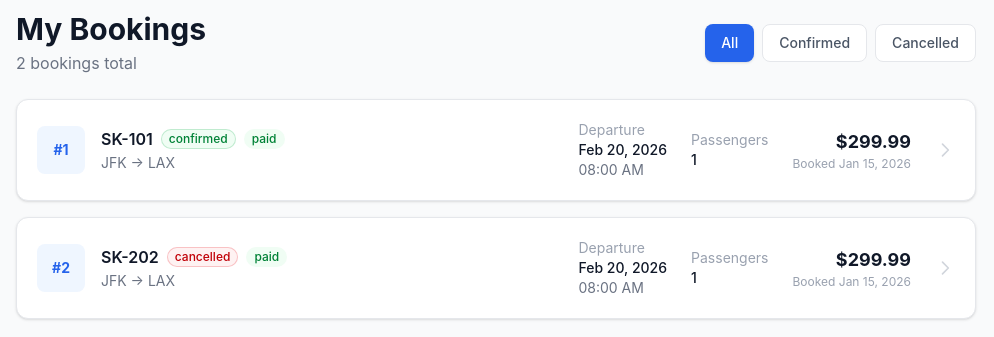
Test: BookingsPage › filters bookings by status when filter buttons are clicked
This screenshot has width=994, height=337.
Expected: the text "SK-101" is shown, [101,127,153,151]
Expected: the text "SK-202" is shown, [101,245,159,269]
Click the button "Confirmed" at (815, 43), box [762,24,867,62]
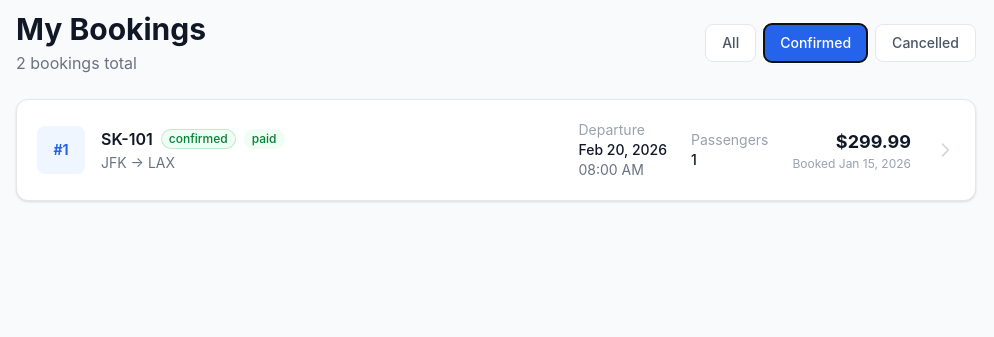
Expected: the text "SK-101" is shown, [101,127,153,151]
Expected: the link "SK-202" is gone
Click the button "Cancelled" at (926, 43), box [875,24,976,62]
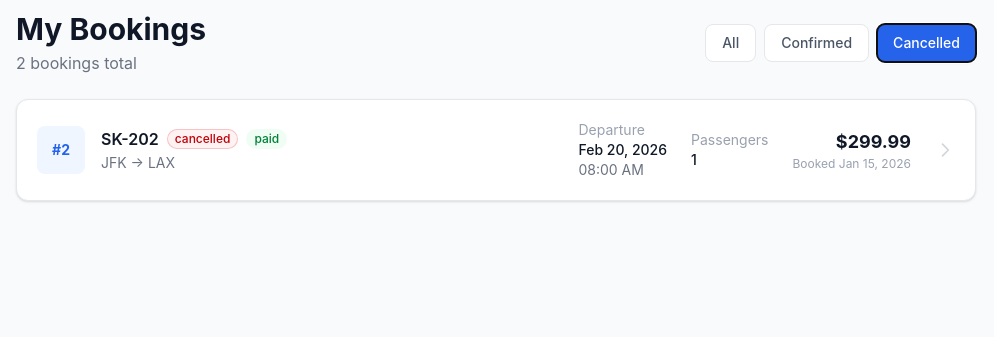
Expected: the link "SK-101" is gone
Expected: the text "SK-202" is shown, [101,127,159,151]
Click the button "All" at (731, 43), box [705,24,756,62]
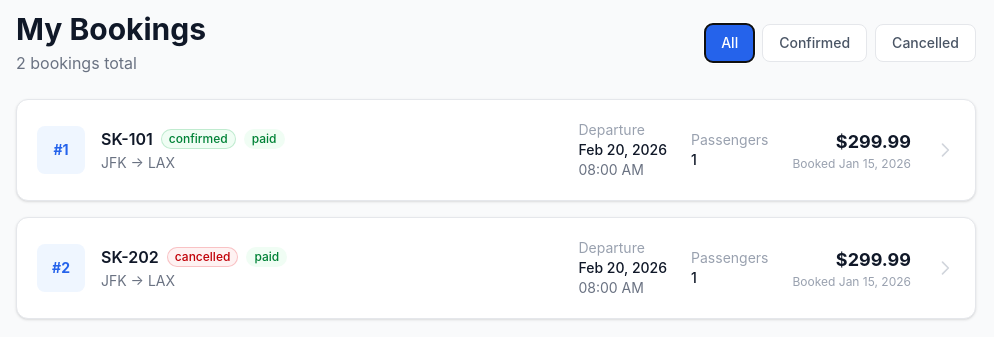
Expected: the text "SK-202" is shown, [101,245,159,269]
Expected: the text "SK-101" is shown, [101,127,153,151]
